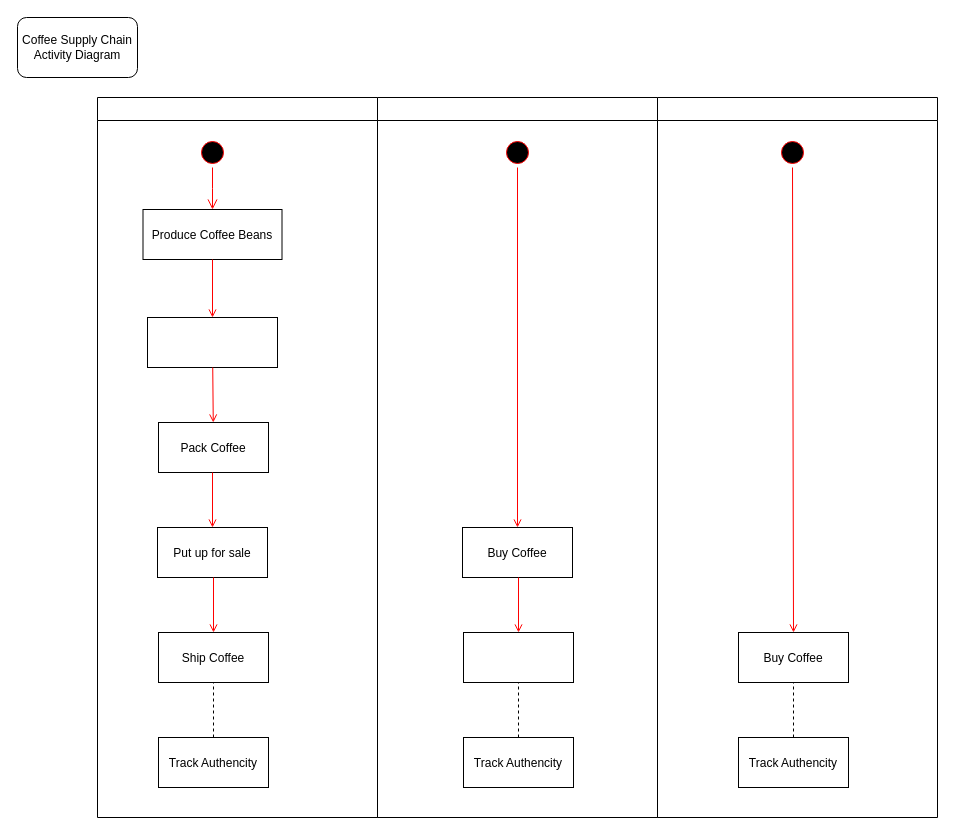
The diagram is 955 pixels wide and 835 high, and some of its shapes have lost their labels. The box of each missing label's shape, as (x1, y1, x2, y2) in pixels:
Consumer (Buyer): (656, 96, 938, 818)
Produce Coffee Powder from beans: (146, 316, 278, 368)
Producer (Farmer): (96, 96, 378, 818)
Receive Coffee: (462, 632, 574, 682)
Seller (Shopkeeper): (376, 96, 658, 818)
